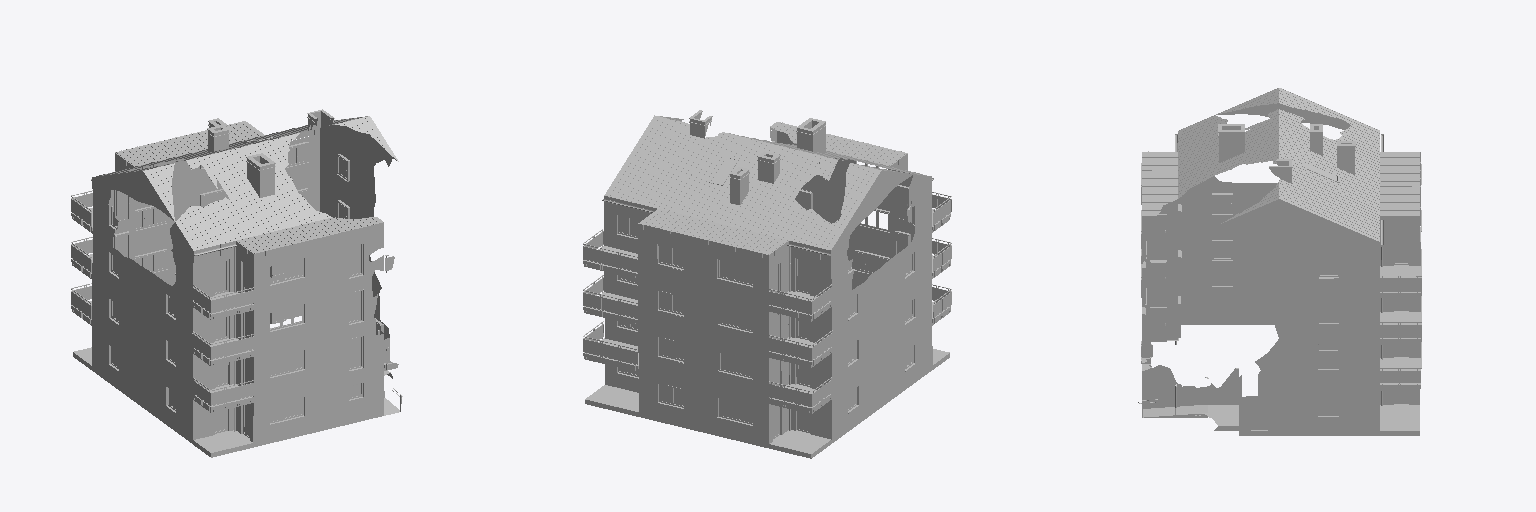
Rendered from Big apartment.obj.
3 renders of one model, left to right at view 1: azimuth 30°, elevation 25°; view 2: azimuth 150°, elevation 25°; view 3: azimuth 270°, elevation 25°, orthographic.
Parts seen in each view (by area): view 1: Big_apartment; view 2: Big_apartment; view 3: Big_apartment.
Part boxes in pixels (x1,y1,x2,y2): Big_apartment: (71,109,402,457); Big_apartment: (583,110,951,458); Big_apartment: (1138,88,1421,435).
Bounding box in the file's own units: 1.62 × 1.68 × 1.73.